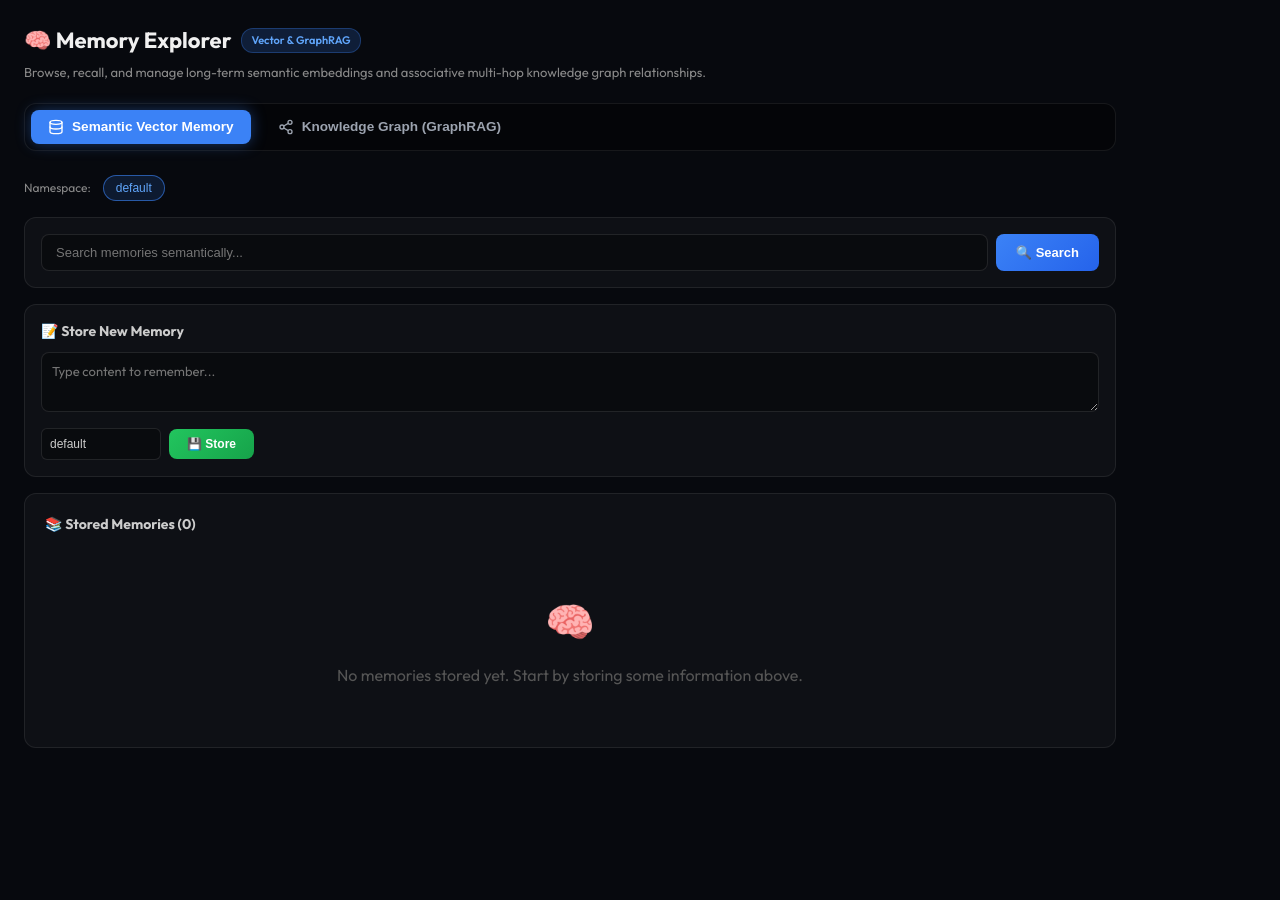
it: React WebUI Views Unit Tests › MemoryView switches to Knowledge Graph (GraphRAG) tab and displays graph controls
The width and height of the screenshot is (1280, 900).
Click the button "Knowledge Graph (GraphRAG)".
click(389, 126)  # box [261,110,518,144]
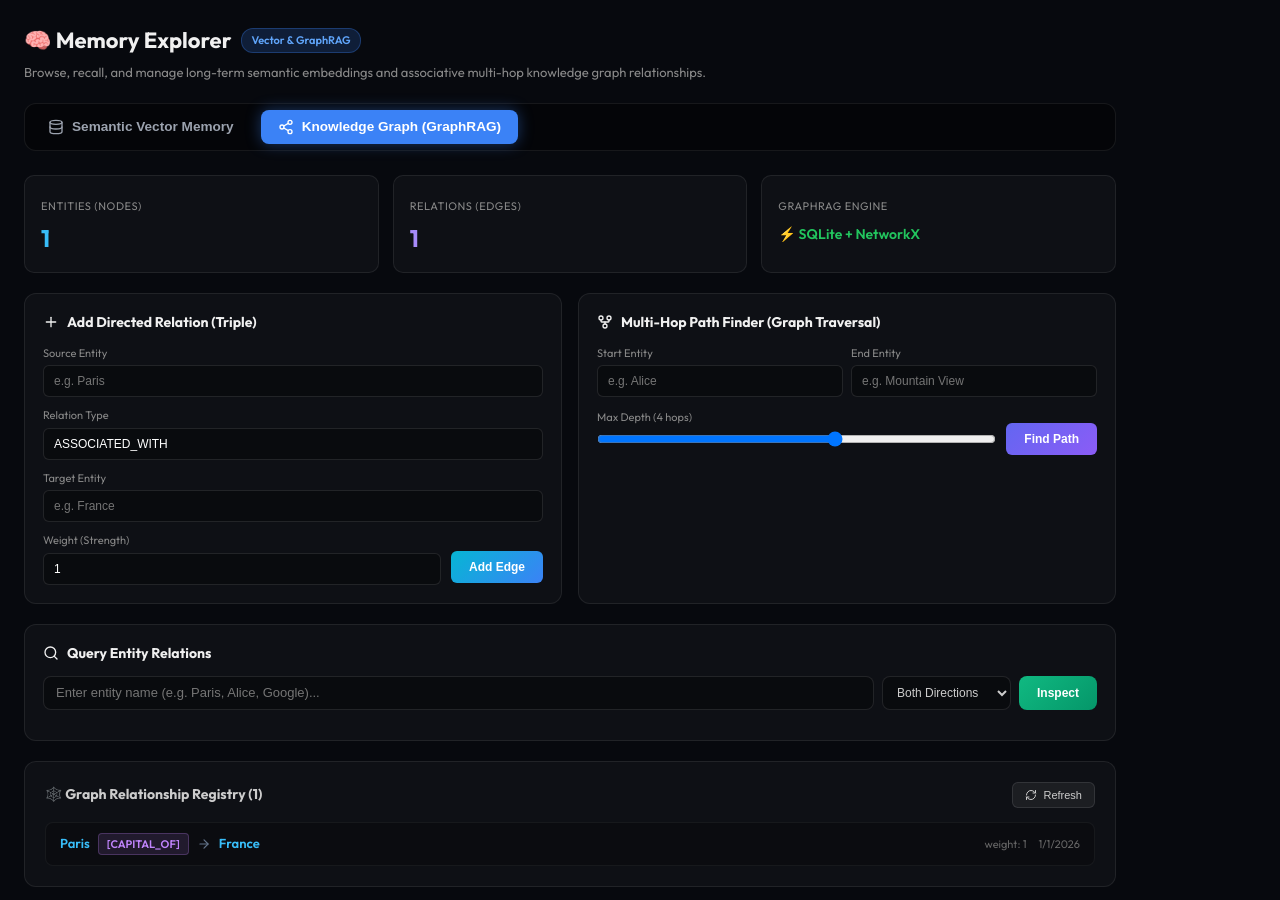
Now the text "Entities (Nodes)" is shown, box [41,198,142,212]
Now the text "Relations (Edges)" is shown, box [410,198,521,212]
Now the text "Add Directed Relation (Triple)" is shown, box [67,312,257,332]
